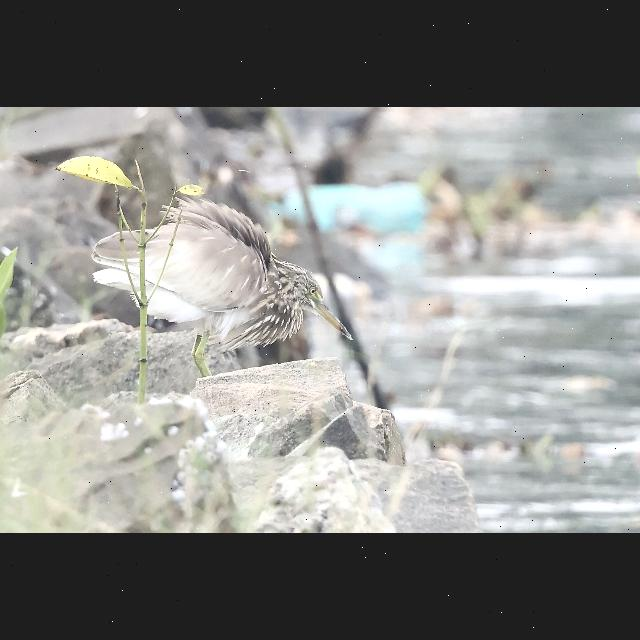heron: (86, 188, 366, 378)
